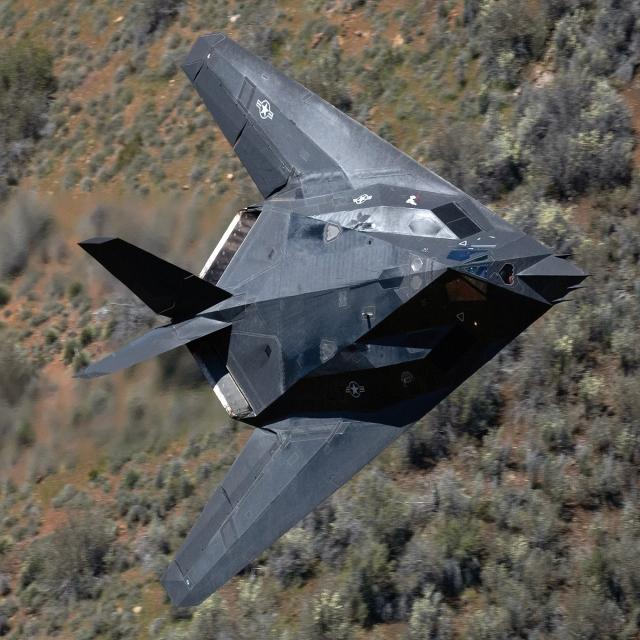F117: (52, 0, 611, 640)
